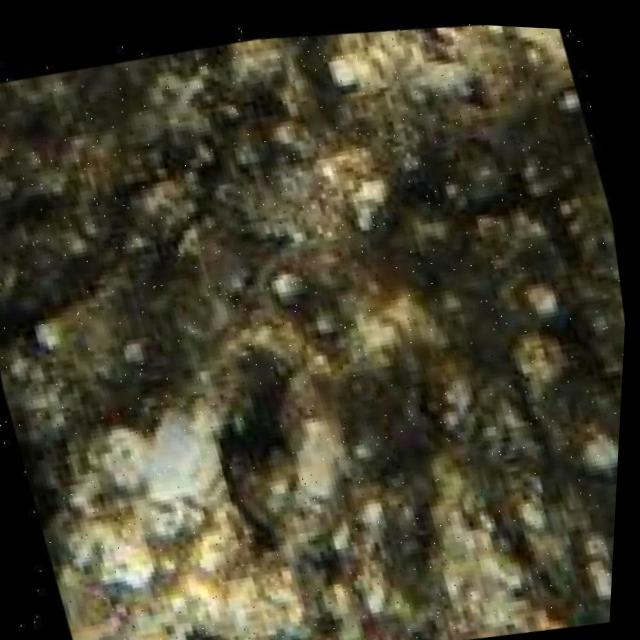Dead Coral: (196, 47, 638, 640), (0, 57, 250, 401)
